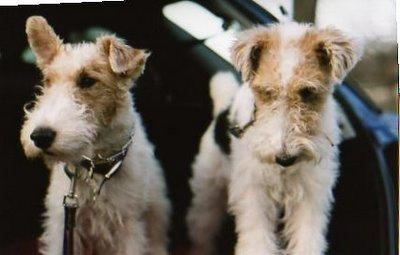wire-haired_fox_terrier: (188, 20, 369, 254), (19, 15, 175, 254)
